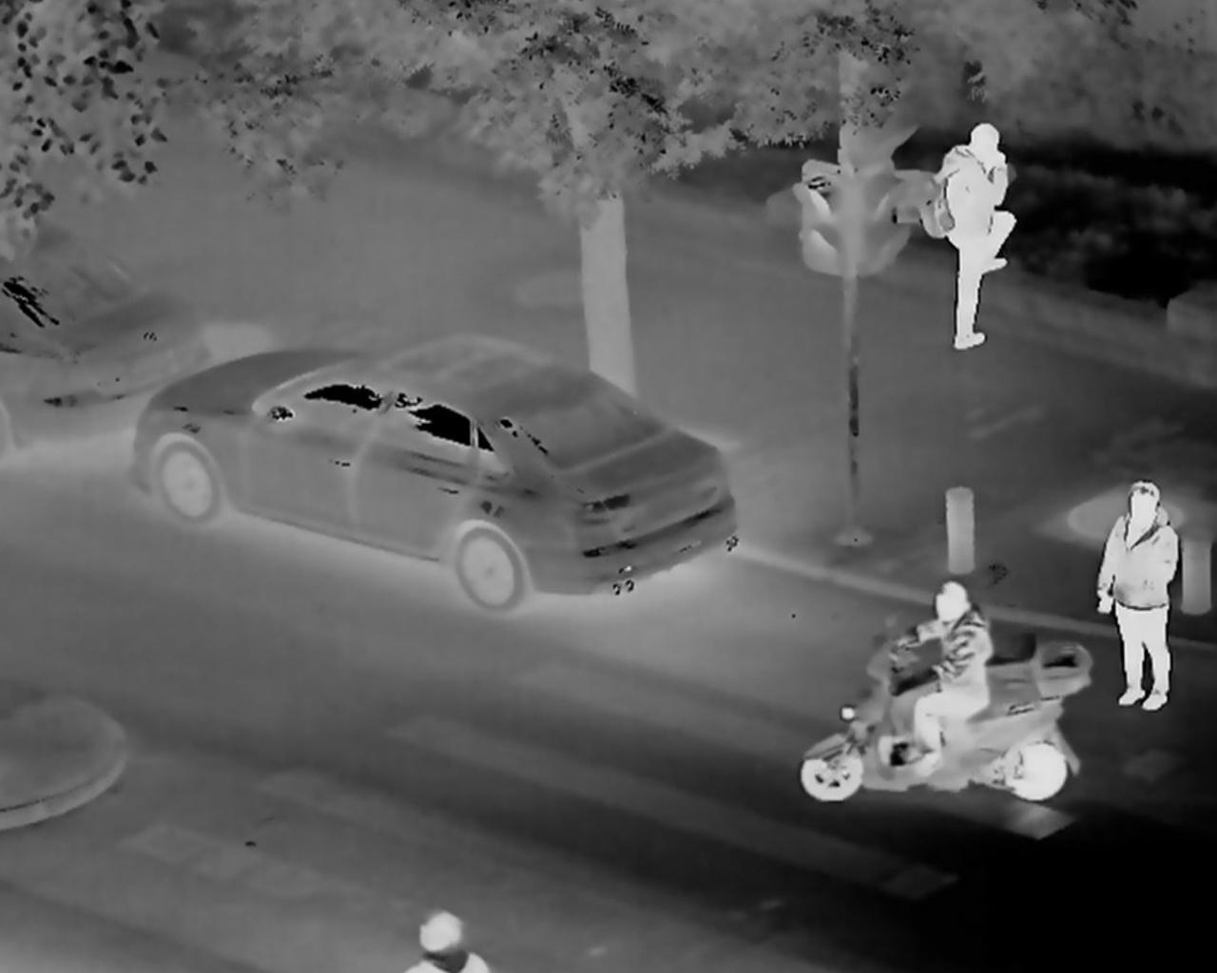person: (912, 117, 1020, 351), (1086, 481, 1194, 711), (909, 563, 1006, 769), (396, 911, 493, 973)
